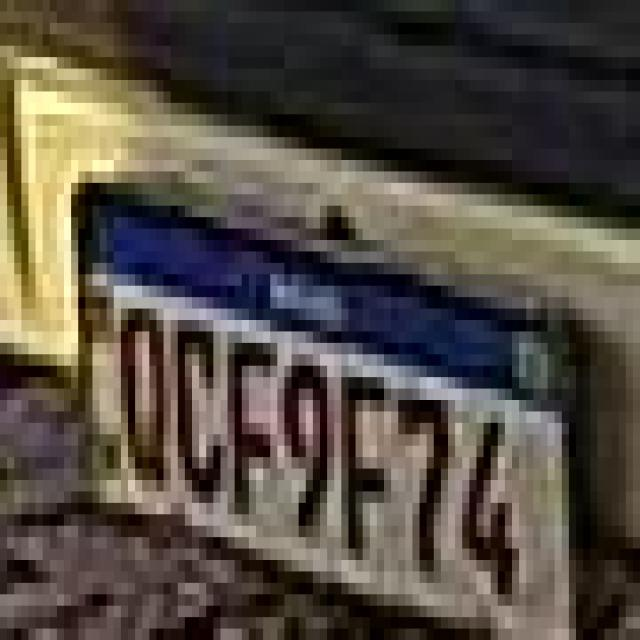4: (460, 393, 526, 616)
7: (402, 382, 458, 590)
9: (276, 352, 338, 548)
C: (170, 316, 227, 506)
F: (340, 360, 400, 575), (226, 328, 281, 528)
Q: (115, 296, 170, 493)
